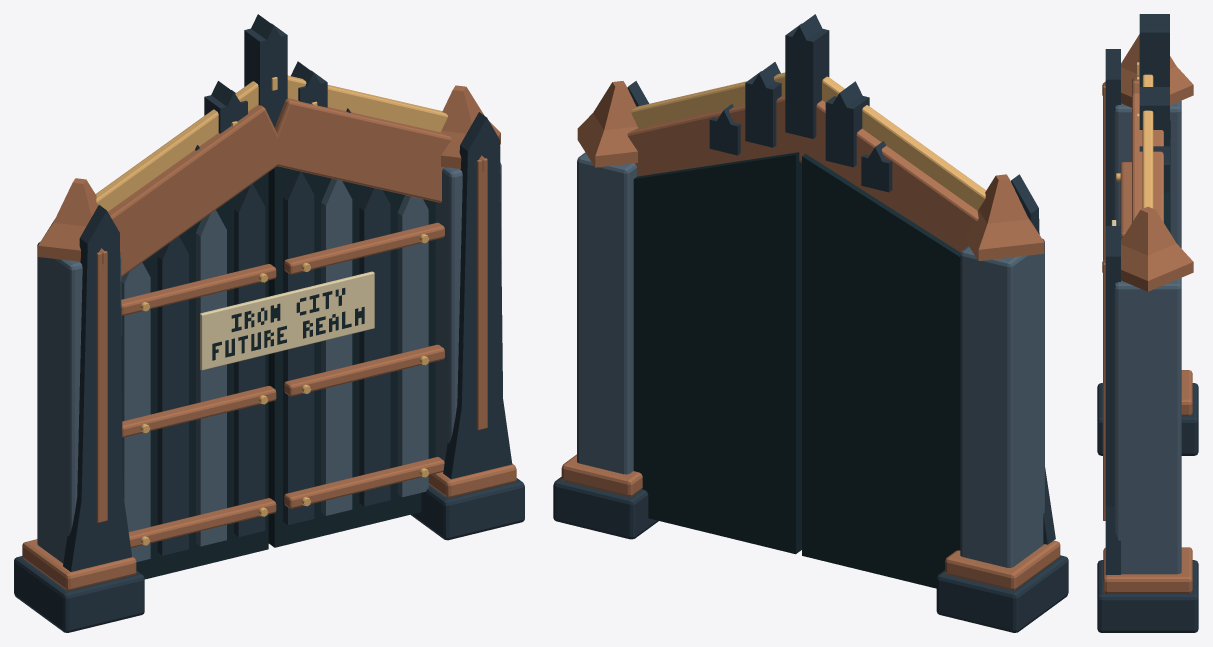
3 views of the same model, side by side, from view 1: azimuth 30°, elevation 25°; view 2: azimuth 150°, elevation 25°; view 3: azimuth 270°, elevation 25° (orthographic). The views are drawn at different scales.
Parts seen in each view (by area): view 1: PR111 enamel and hardware; view 2: PR111 enamel and hardware; view 3: PR111 enamel and hardware.
Part boxes in pixels (x1,y1,x2,y2): PR111 enamel and hardware: (14, 14, 524, 632); PR111 enamel and hardware: (553, 14, 1068, 632); PR111 enamel and hardware: (1097, 14, 1198, 632).
Bounding box in the file's own units: 3.07 × 3.4 × 0.609.
